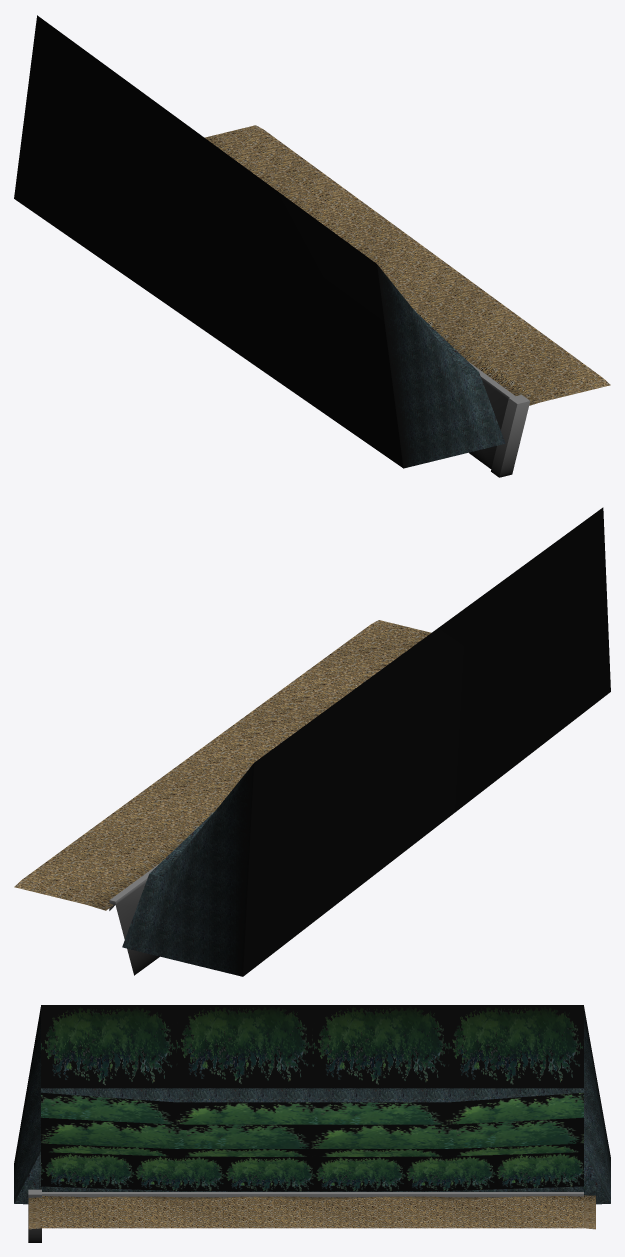
The model's file is KEISIN_R00.glb.
3 views of the same model, one above another, from view 1: azimuth 30°, elevation 25°; view 2: azimuth 150°, elevation 25°; view 3: azimuth 270°, elevation 25° (orthographic). The views are drawn at different scales.
Visible parts, largest first — view 1: Model; view 2: Model; view 3: Model.
Part boxes in pixels (x1,y1,x2,y2): Model: [14, 15, 610, 477]; Model: [14, 507, 610, 976]; Model: [14, 1005, 610, 1242].
Size of the model in its own units: 39.47 by 38.35 by 110.
Materials: 5 (5 with a texture image).
